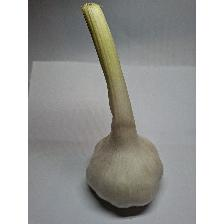Knoblauch: (77, 5, 166, 209)
